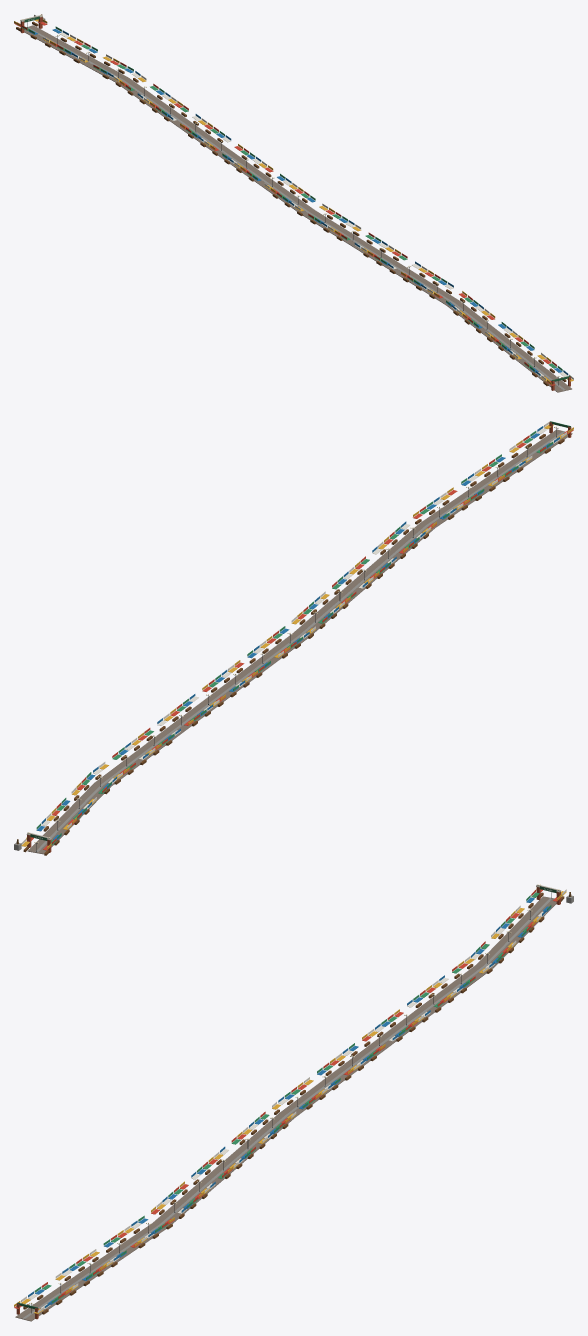
File: smstreet.glb
3 renders of one model, top to bottom at view 1: azimuth 30°, elevation 25°; view 2: azimuth 150°, elevation 25°; view 3: azimuth 330°, elevation 25°, orthographic. The views are drawn at different scales.
Visible parts, largest first — view 1: smstreet; view 2: smstreet; view 3: smstreet.
Boxes of the visible parts, box(x1,y1,x2,y2) form: smstreet: box(14, 14, 573, 392); smstreet: box(14, 421, 573, 855); smstreet: box(14, 884, 573, 1321).
Size of the model in its own units: 30.44 by 6.35 by 448.
